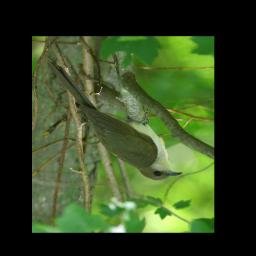Cuckoo: (47, 58, 183, 181)
